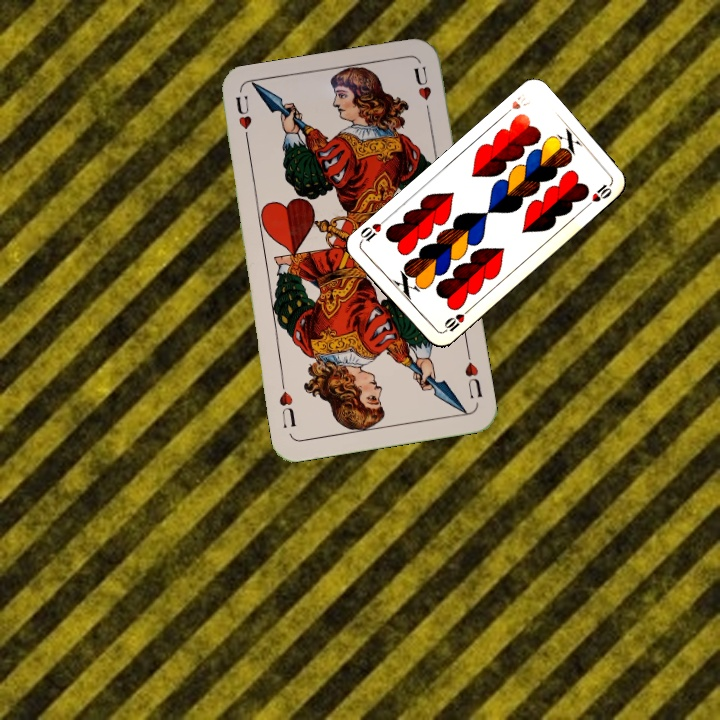H10: (499, 89, 534, 119), (438, 306, 472, 336)
HU: (460, 347, 485, 401), (231, 92, 254, 150)
